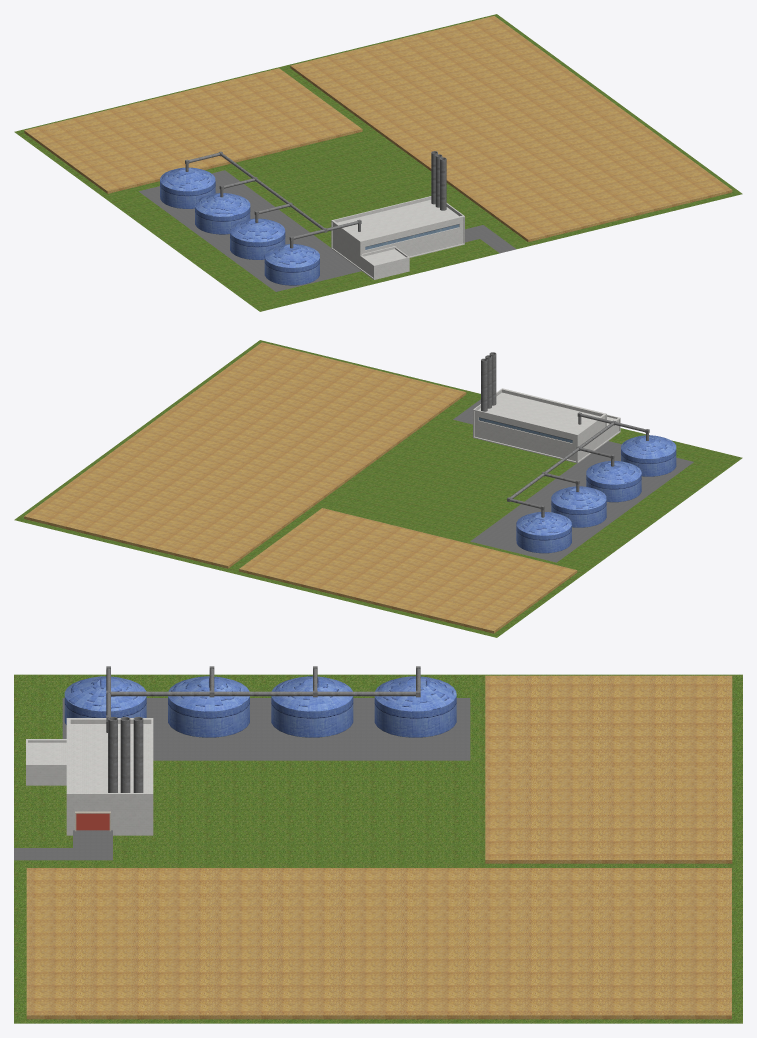
The model's file is Biogaskraftwerk_Tech1.fbx.
3 views of the same model, one above another, from view 1: azimuth 30°, elevation 25°; view 2: azimuth 150°, elevation 25°; view 3: azimuth 270°, elevation 25° (orthographic). The views are drawn at different scales.
Visible parts, largest first — view 1: bio_tech_1_1; view 2: bio_tech_1_1; view 3: bio_tech_1_1.
Boxes of the visible parts, box(x1,y1,x2,y2) form: bio_tech_1_1: box(14, 14, 742, 311); bio_tech_1_1: box(14, 340, 742, 637); bio_tech_1_1: box(14, 666, 742, 1023).
Bounding box in the file's own units: 200 × 30.31 × 176.
